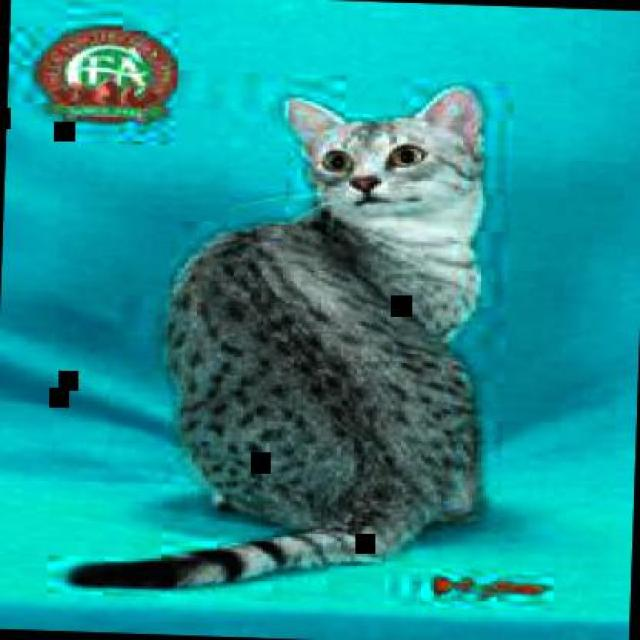cat: (69, 73, 493, 601)
